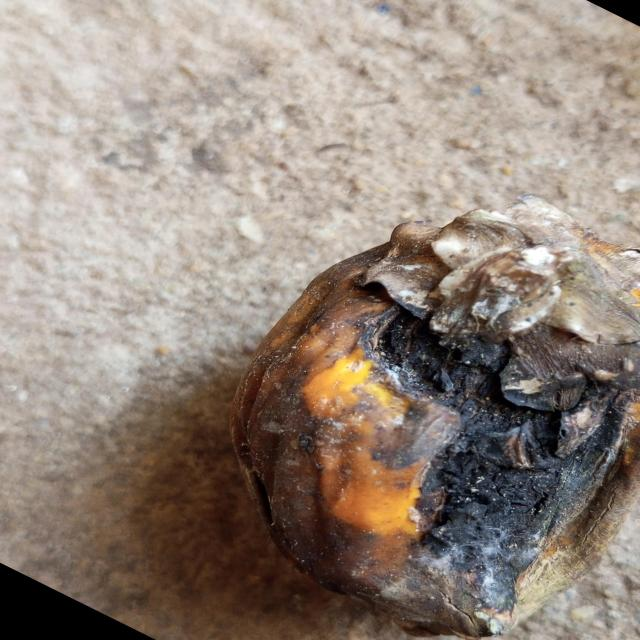damaged: (229, 195, 640, 639)
